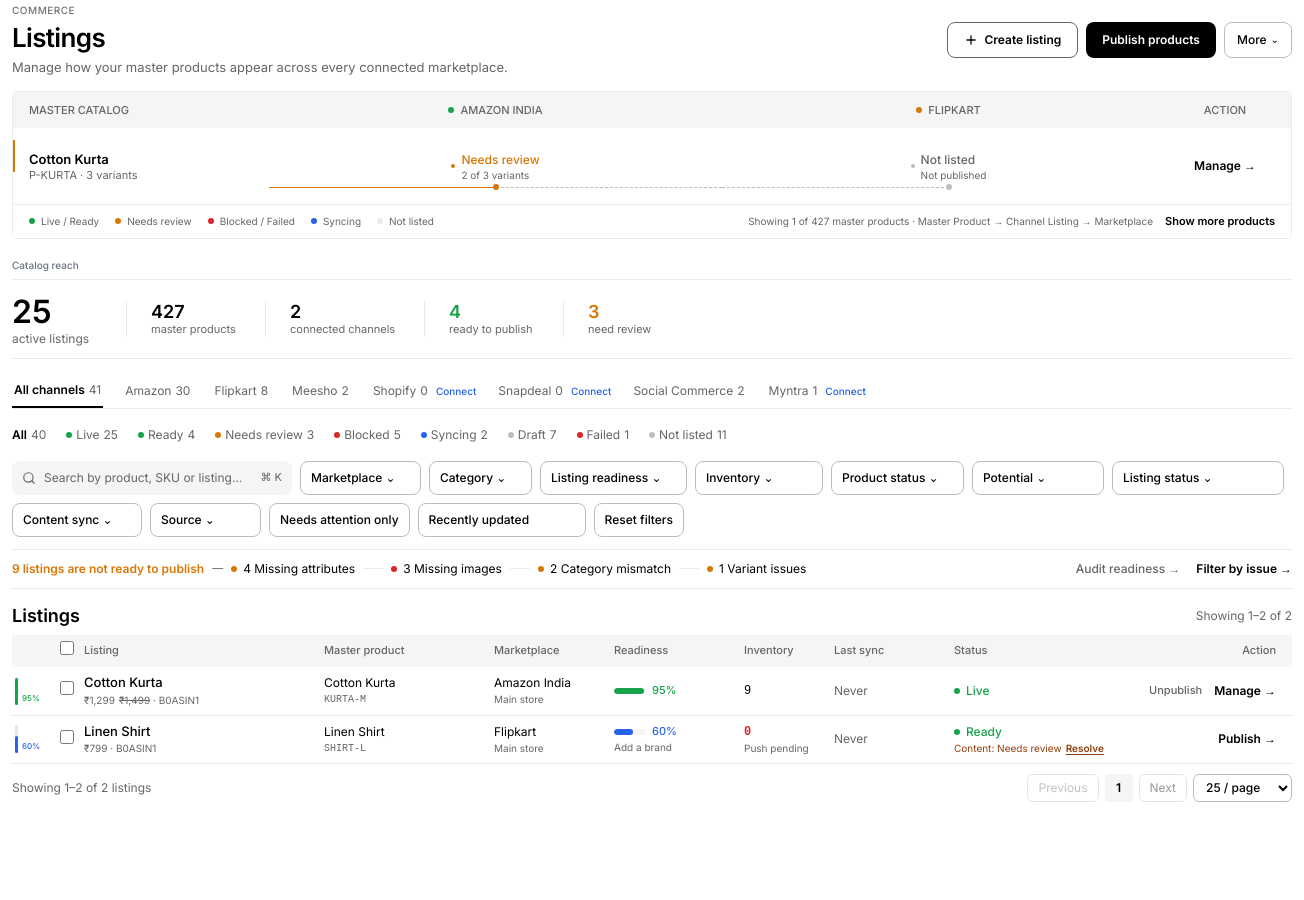
ListingsPage › puts the tab, filters, search and page in the URL and sends them to the table
Expected: the 1st link "Cotton Kurta" is shown, x1=84 y1=674 x2=163 y2=690
Click the tab "Failed 1" at (603, 434), box x1=576 y1=426 x2=629 y2=444
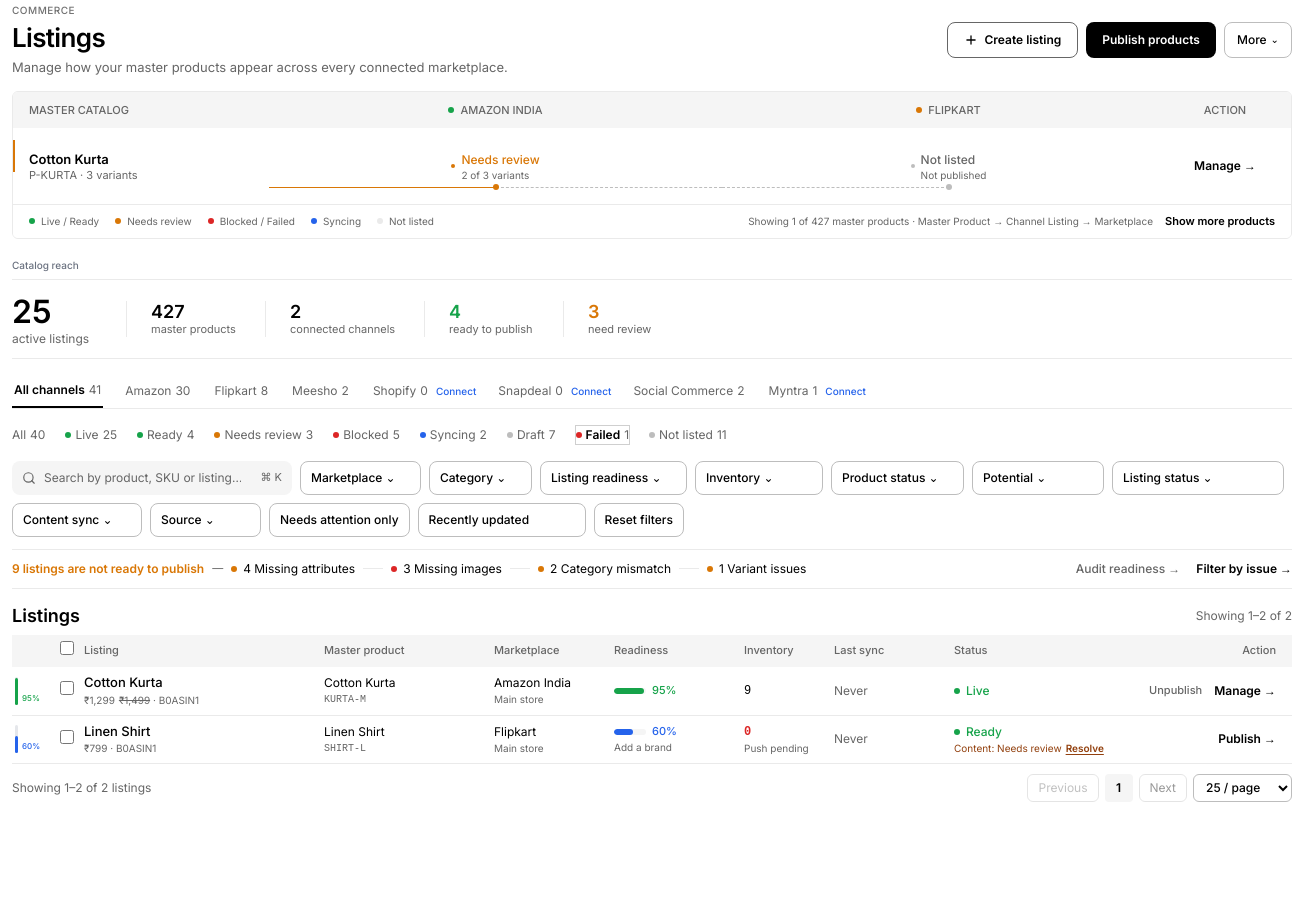
Click the button "Amazon 30" at (158, 391), box x1=123 y1=374 x2=192 y2=408
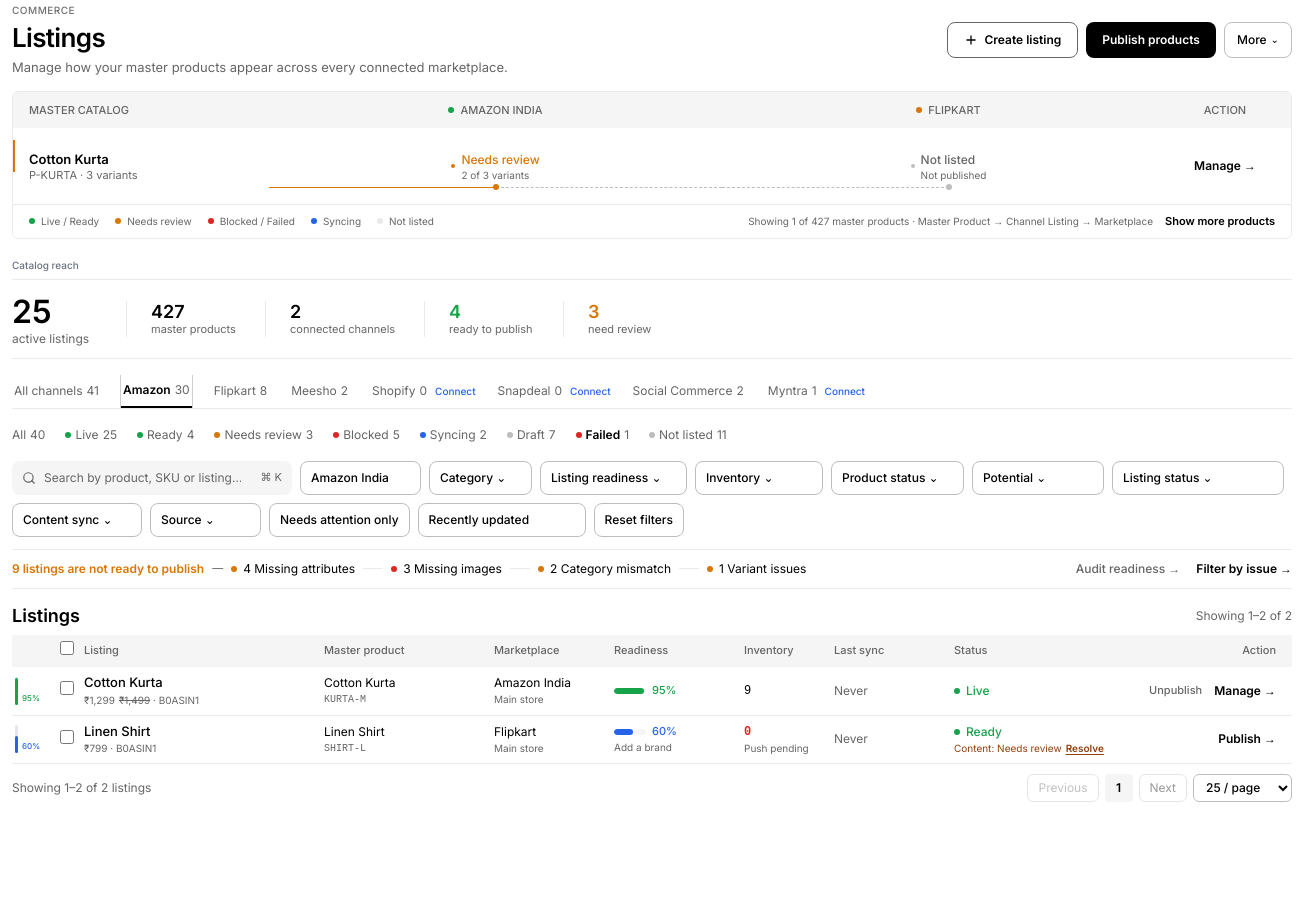
Select "Needs review" in the dropdown named "Content sync" at (77, 520), box x1=12 y1=502 x2=142 y2=536
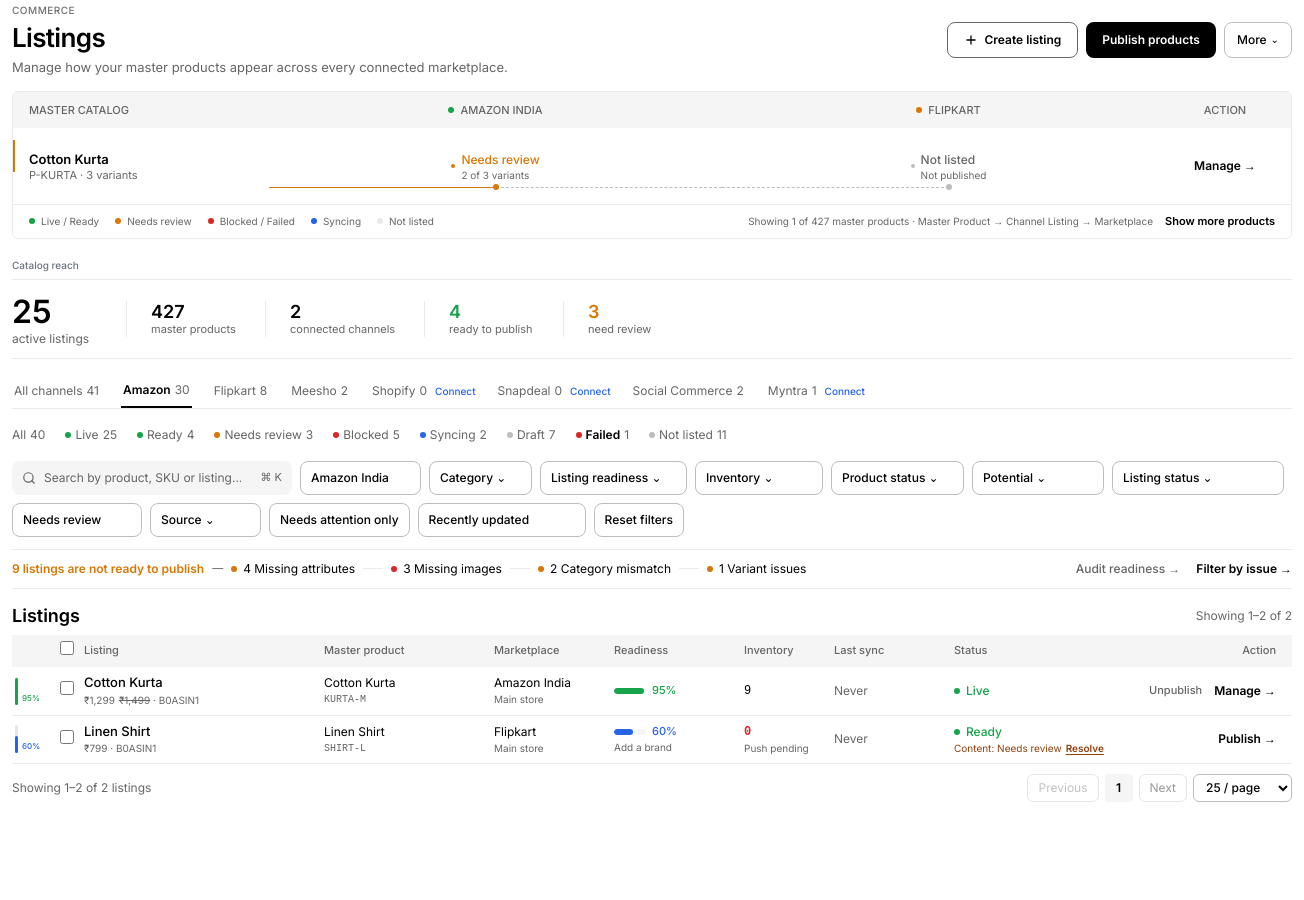
Type "kurta" into the search field named "Search listings" at (148, 478), box x1=44 y1=468 x2=252 y2=486
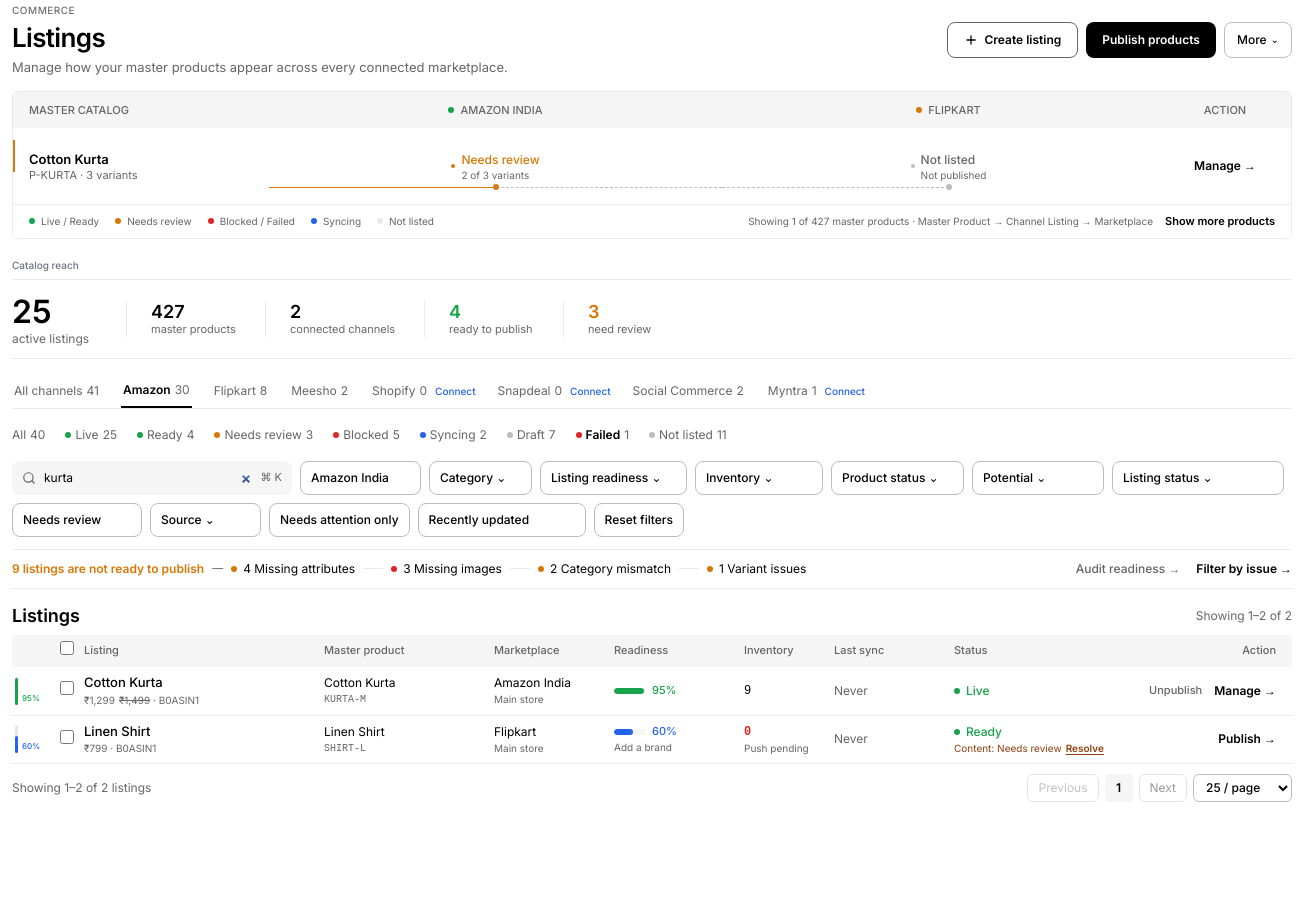
Click the button "Reset filters" at (639, 520), box x1=594 y1=502 x2=684 y2=536
(page scrolled)
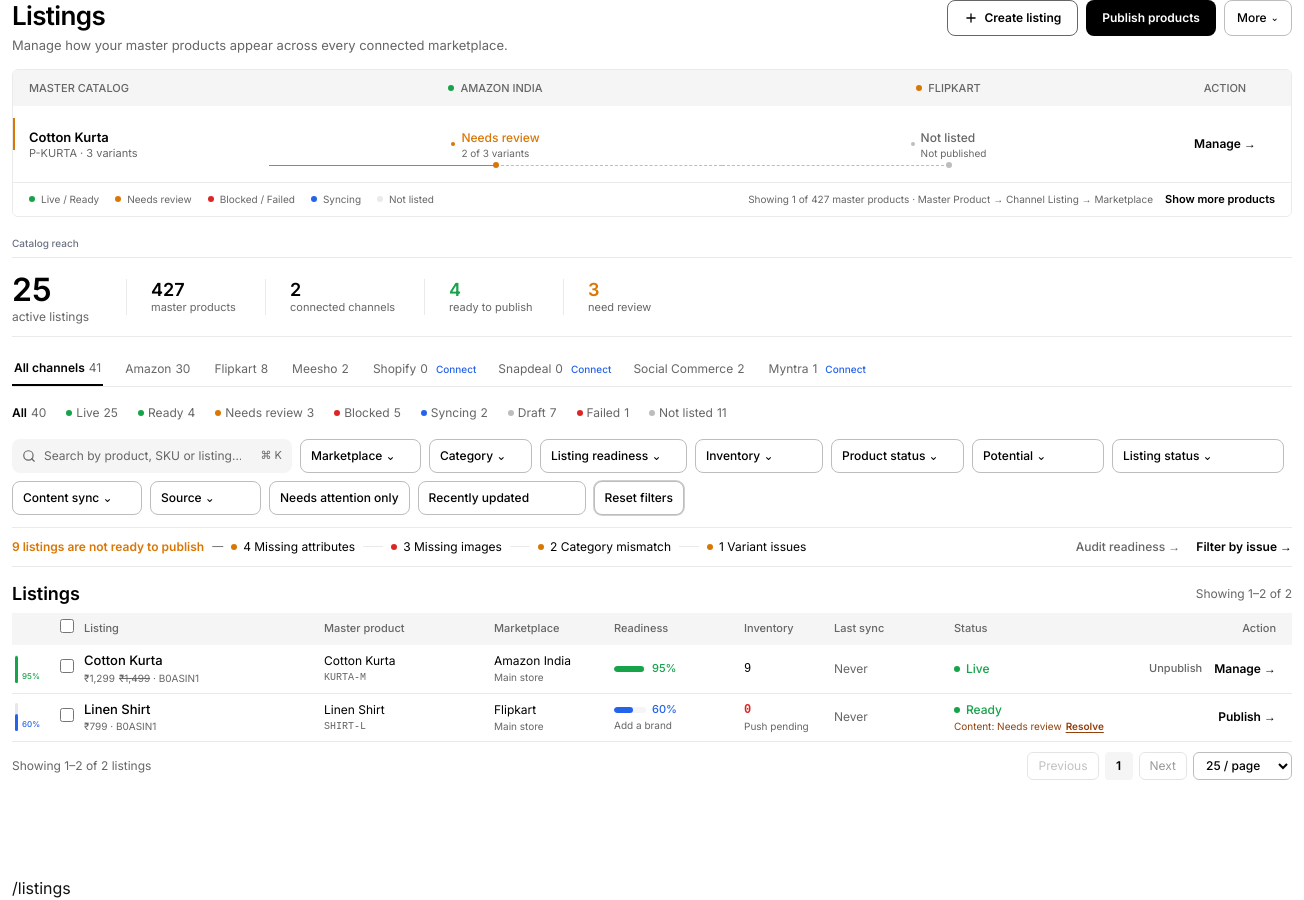
Result: the text with test id "loc" reads "/listings" at x1=12 y1=878 x2=71 y2=898
